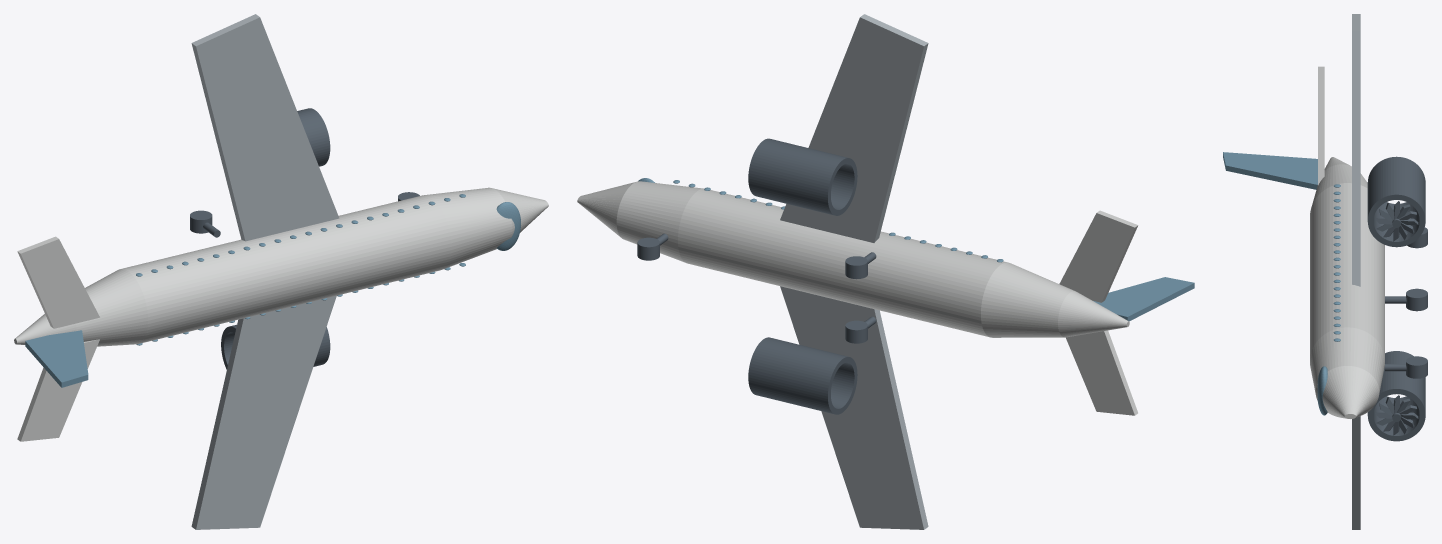
The model's file is assembly.glb.
3 views of the same model, side by side, from view 1: azimuth 30°, elevation 25°; view 2: azimuth 150°, elevation 25°; view 3: azimuth 270°, elevation 25° (orthographic). The views are drawn at different scales.
Parts seen in each view (by area): view 1: part-000, part-004, part-001, part-005, part-002, part-007, part-008, part-006, part-003; view 2: part-000, part-001, part-004, part-003, part-006, part-005, part-002, part-007; view 3: part-000, part-006, part-003, part-004, part-007, part-001, part-008, part-005, part-009, part-010.
Part boxes in pixels (x1,y1,x2,y2): part-000: (14,187,548,346); part-004: (191,14,339,241); part-001: (191,295,336,529); part-005: (17,236,99,328); part-002: (17,339,99,441); part-007: (25,330,88,387); part-008: (136,194,520,345); part-006: (297,108,330,166); part-003: (221,324,330,369); part-000: (577,181,1129,337); part-001: (780,286,928,529); part-004: (780,14,928,242); part-003: (748,337,857,414); part-006: (748,138,857,215); part-005: (1059,210,1138,302); part-002: (1065,330,1137,415); part-007: (1093,277,1194,321); part-000: (1310,157,1384,418); part-006: (1367,156,1425,247); part-003: (1367,351,1425,441); part-004: (1352,14,1360,286); part-007: (1223,152,1317,189); part-001: (1352,416,1360,529); part-008: (1317,184,1340,415); part-005: (1318,66,1324,185); part-009: (1385,356,1427,378); part-010: (1385,288,1427,311).
Bounding box in the file's own units: 0.214 × 0.19 × 0.0708.
